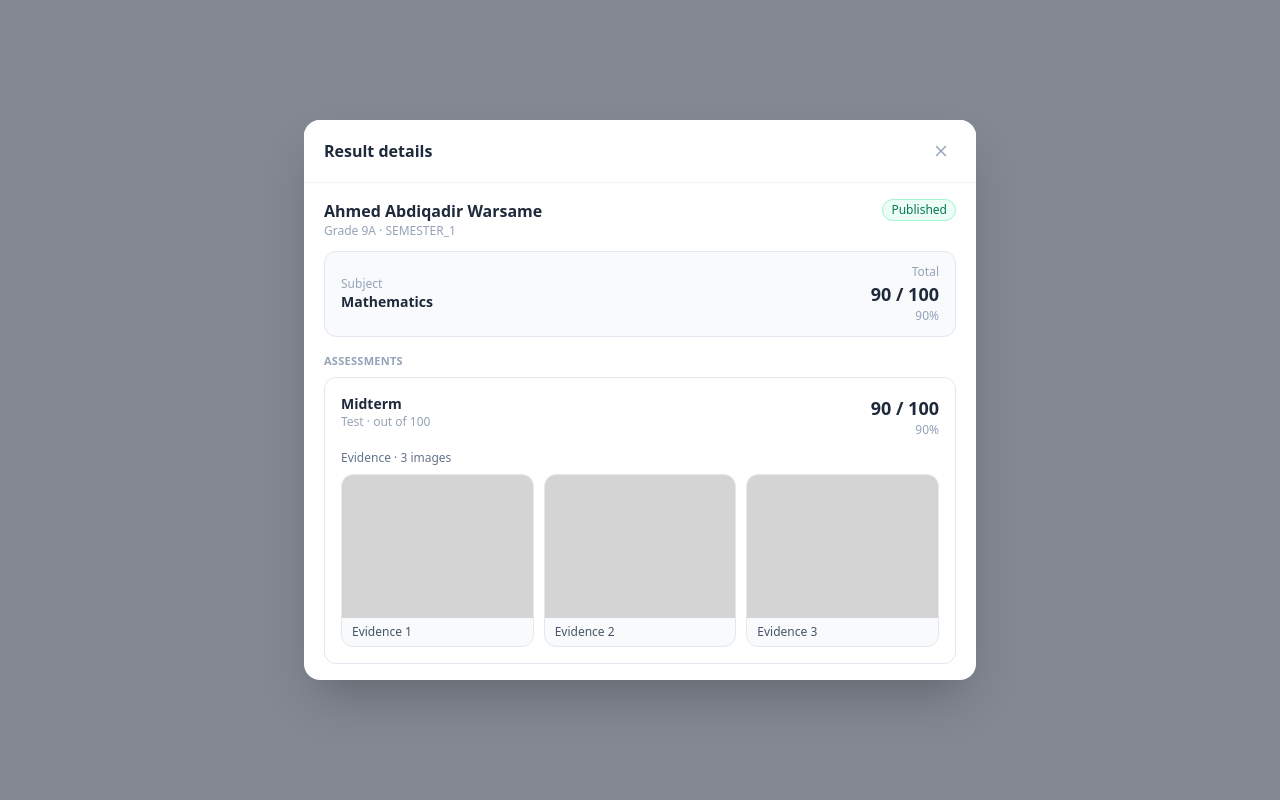
ResultDetailModal — one read-only detail for every role › evidence opens inside the app and pages through all three images; Escape closes the viewer
Click the button with aria-label "Open evidence 1 of 3" at point(437, 561), box [341,474,534,647]
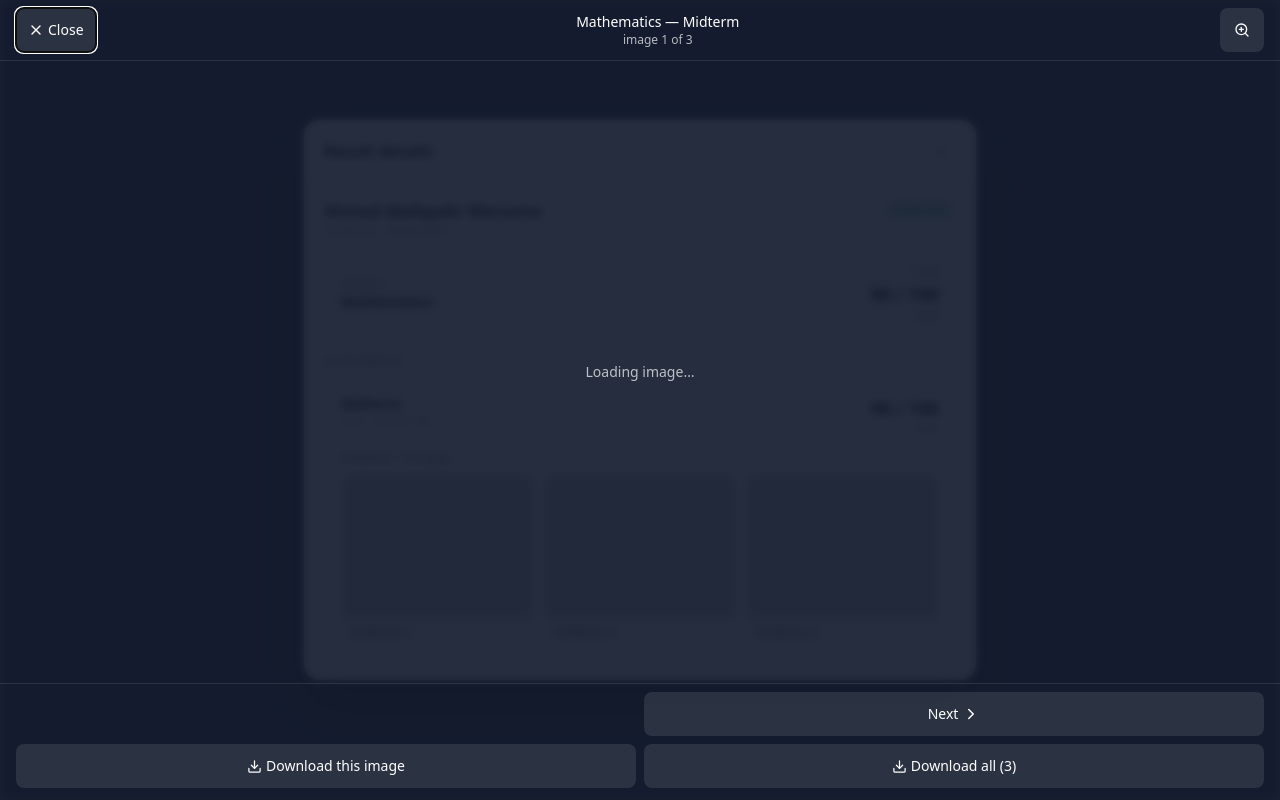
Expected: the text "image 1 of 3" is shown, [623,31,693,48]
Click the button with aria-label "Next image" at point(954, 714), box [644,692,1264,736]
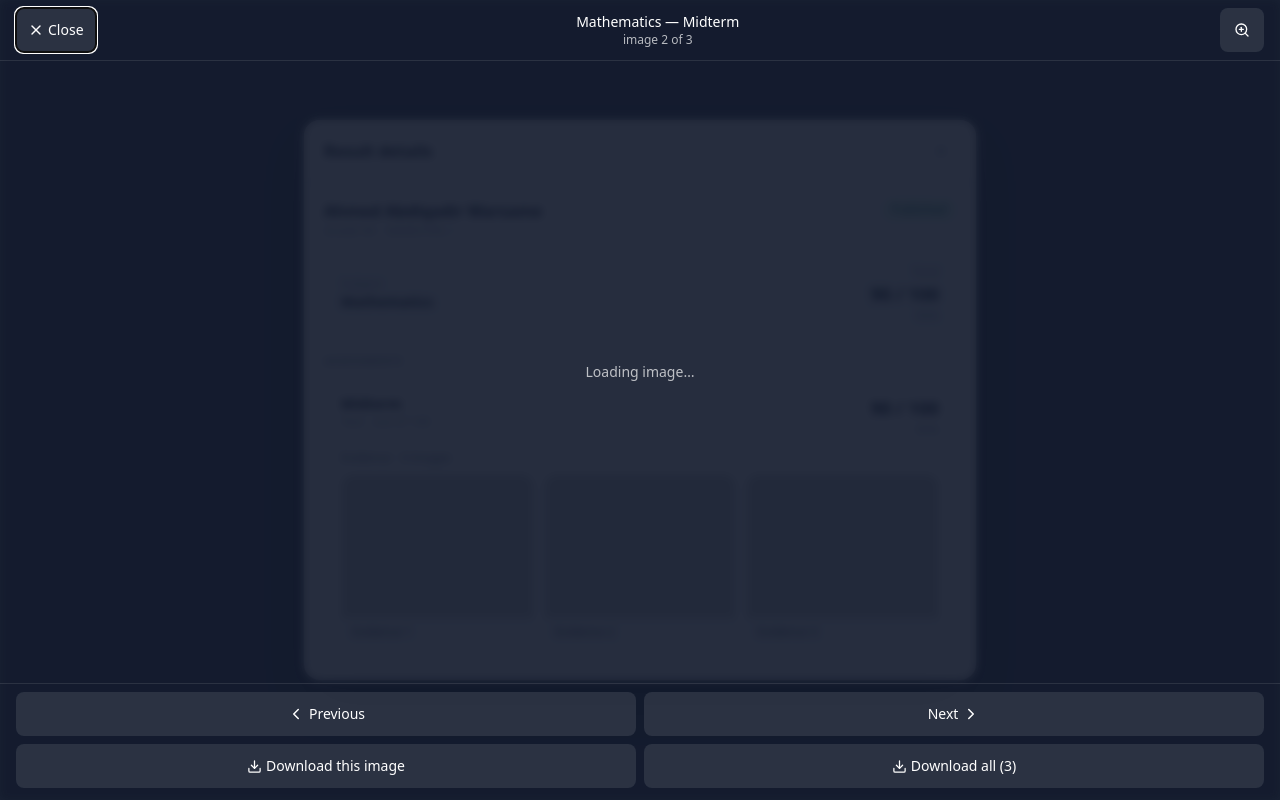
Expected: the text "image 2 of 3" is shown, [623,31,693,48]
Click the button with aria-label "Next image" at point(954, 714), box [644,692,1264,736]
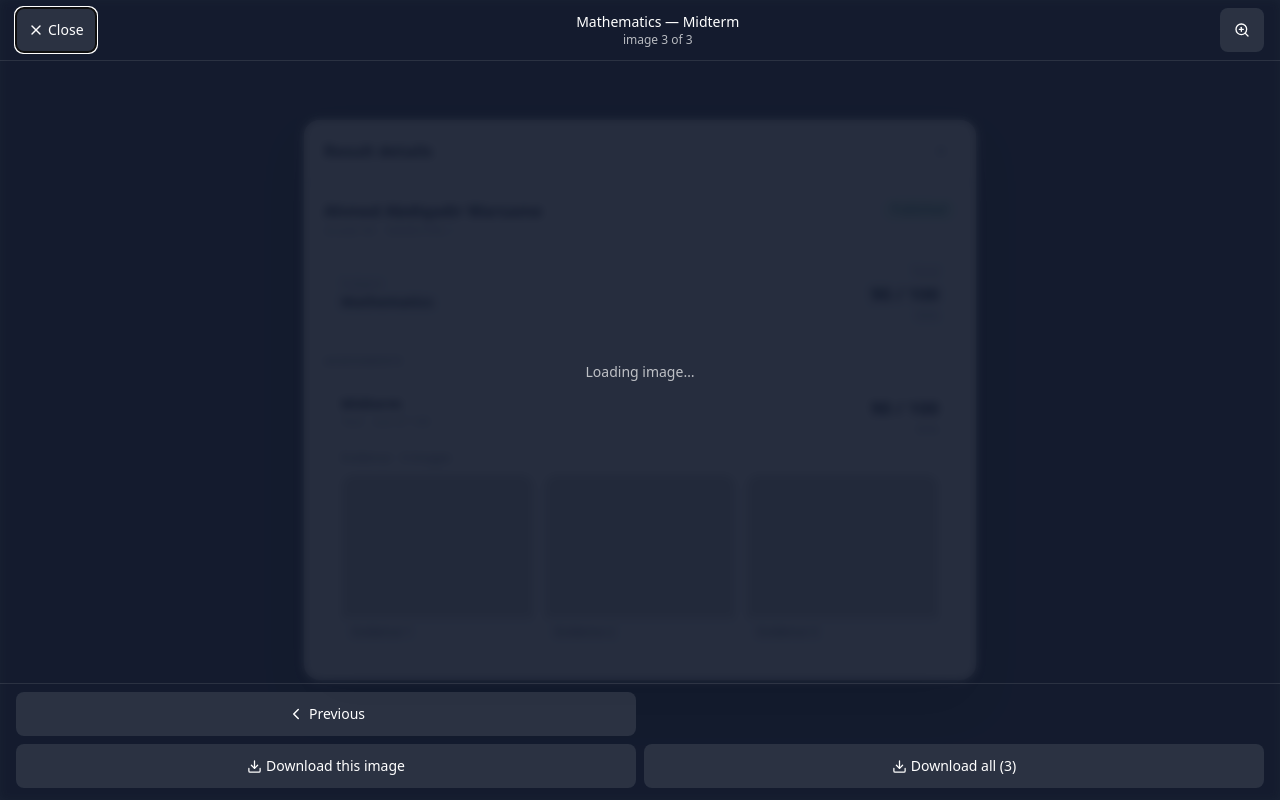
Click the button with aria-label "Previous image" at point(326, 714), box [16,692,636,736]
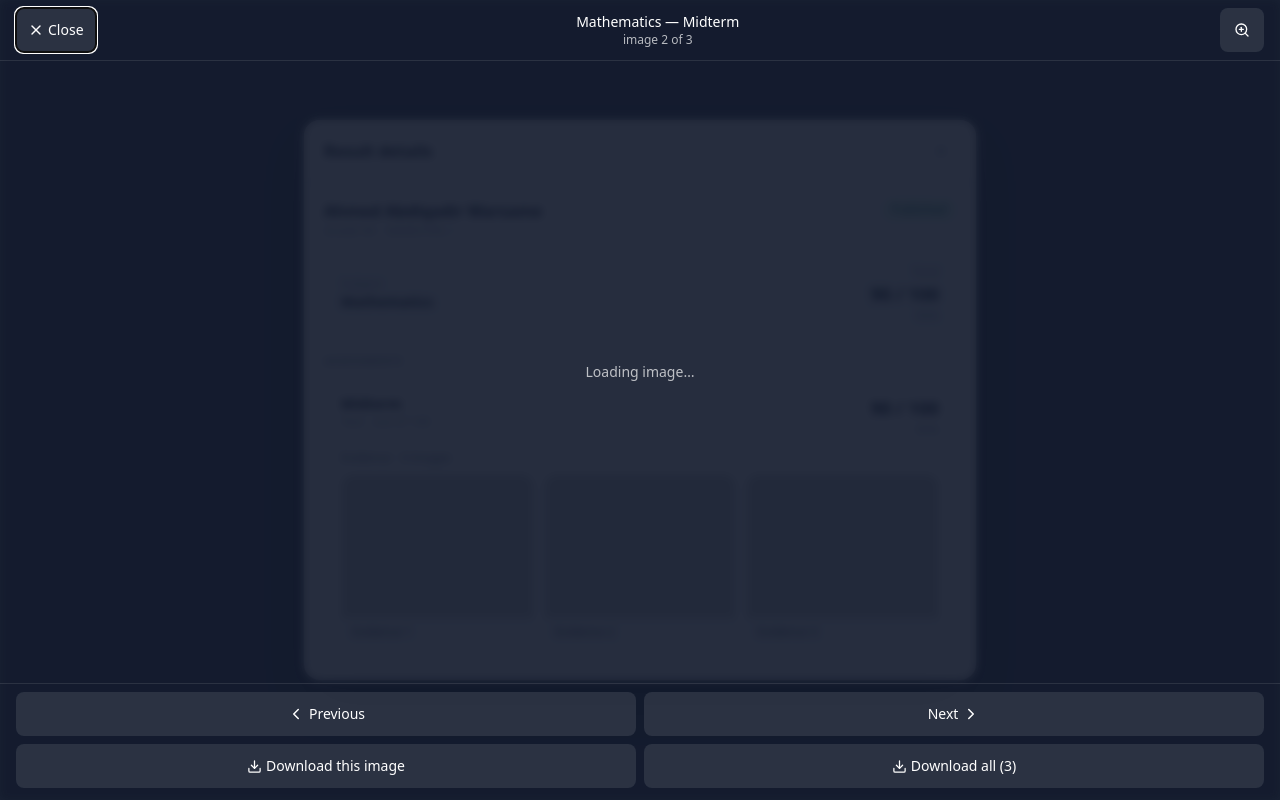
Expected: the text "image 2 of 3" is shown, [623,31,693,48]
Press Escape
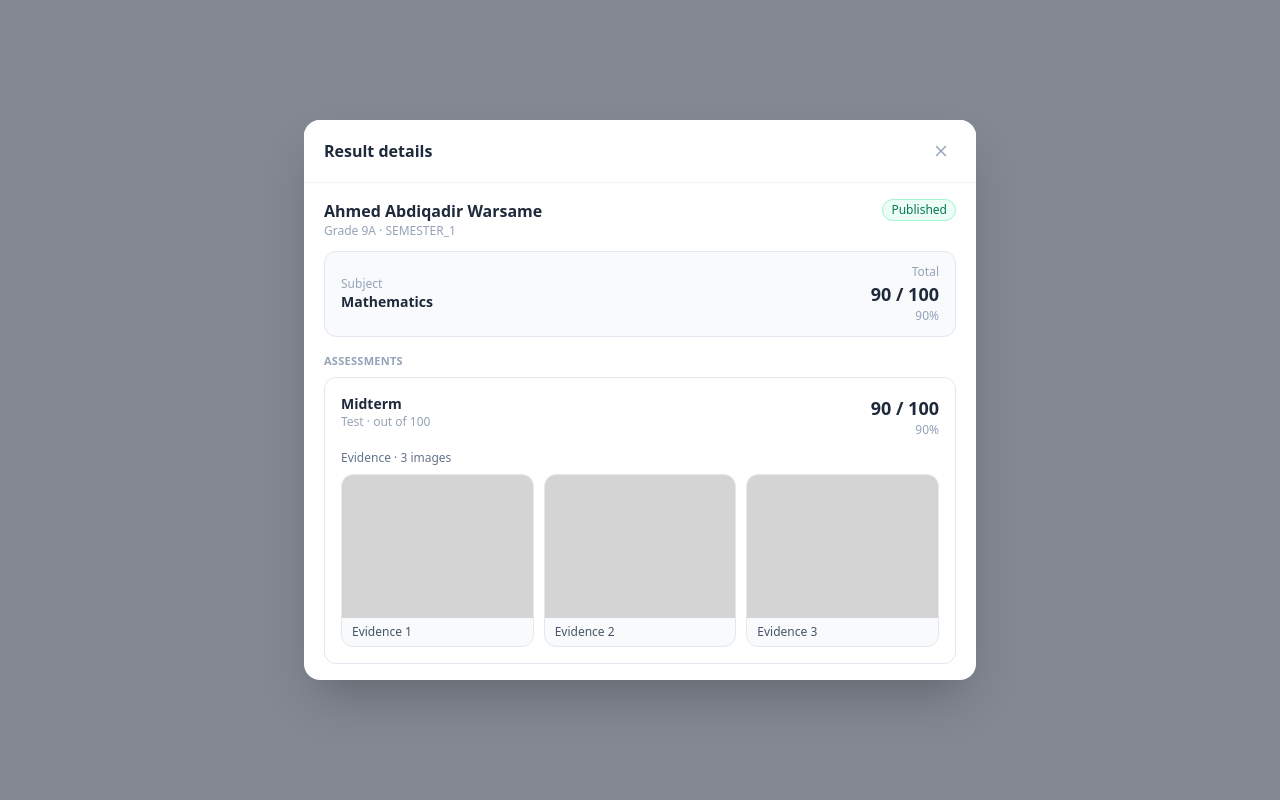
Expected: the dialog "Mathematics — Midterm" is gone
